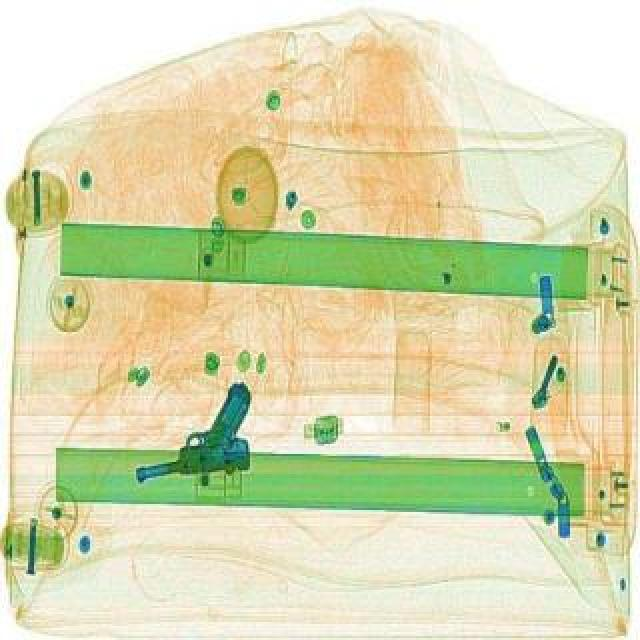gun: (118, 376, 292, 522)
